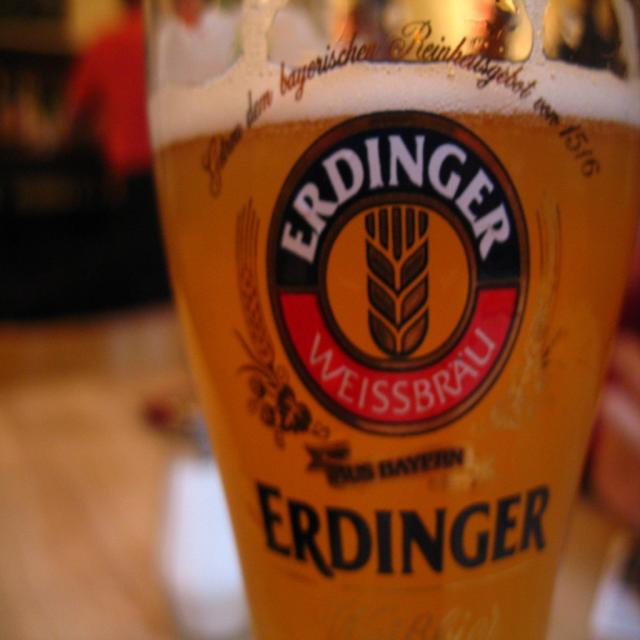erdinger: (200, 15, 618, 583)
